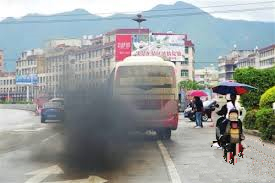smoke: (59, 100, 145, 172)
